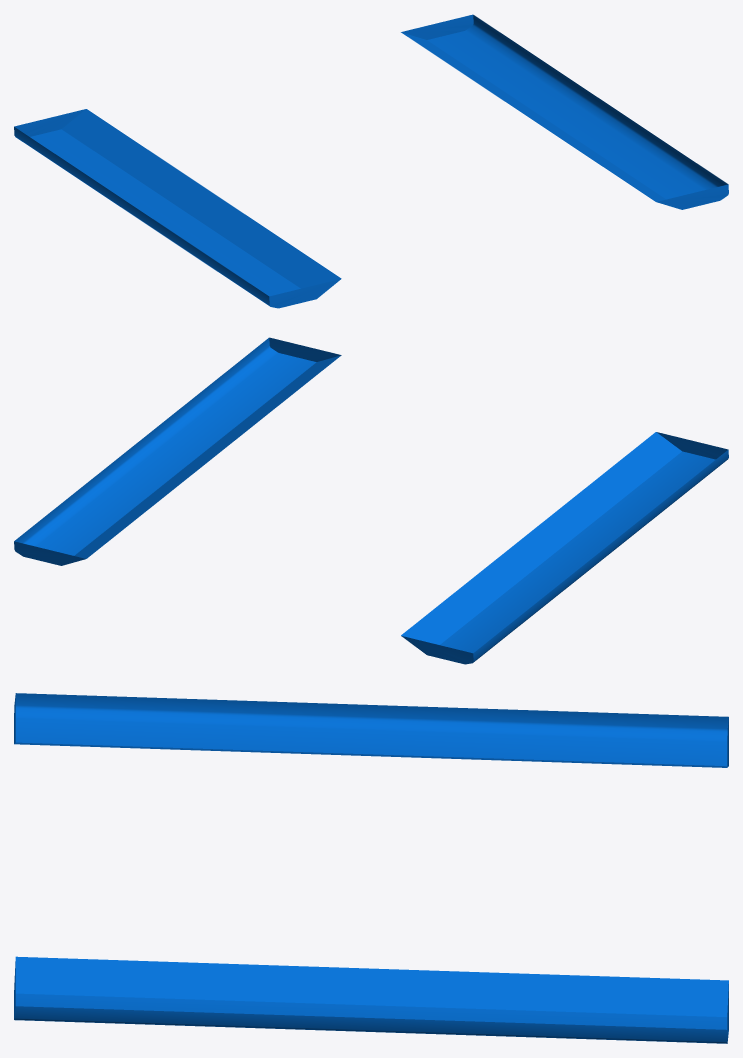
The model's file is Mini_Skirt01_Duco.fbx.
3 renders of one model, top to bottom at view 1: azimuth 30°, elevation 25°; view 2: azimuth 150°, elevation 25°; view 3: azimuth 270°, elevation 25°, orthographic. The views are drawn at different scales.
Visible parts, largest first — view 1: Mini_Skirt01_Duco; view 2: Mini_Skirt01_Duco; view 3: Mini_Skirt01_Duco.
Boxes of the visible parts, x1=… form: Mini_Skirt01_Duco: x1=14, y1=14, x2=728, y2=308; Mini_Skirt01_Duco: x1=14, y1=337, x2=728, y2=664; Mini_Skirt01_Duco: x1=14, y1=693, x2=728, y2=1043.
Bounding box in the file's own units: 133 × 8.51 × 128.
